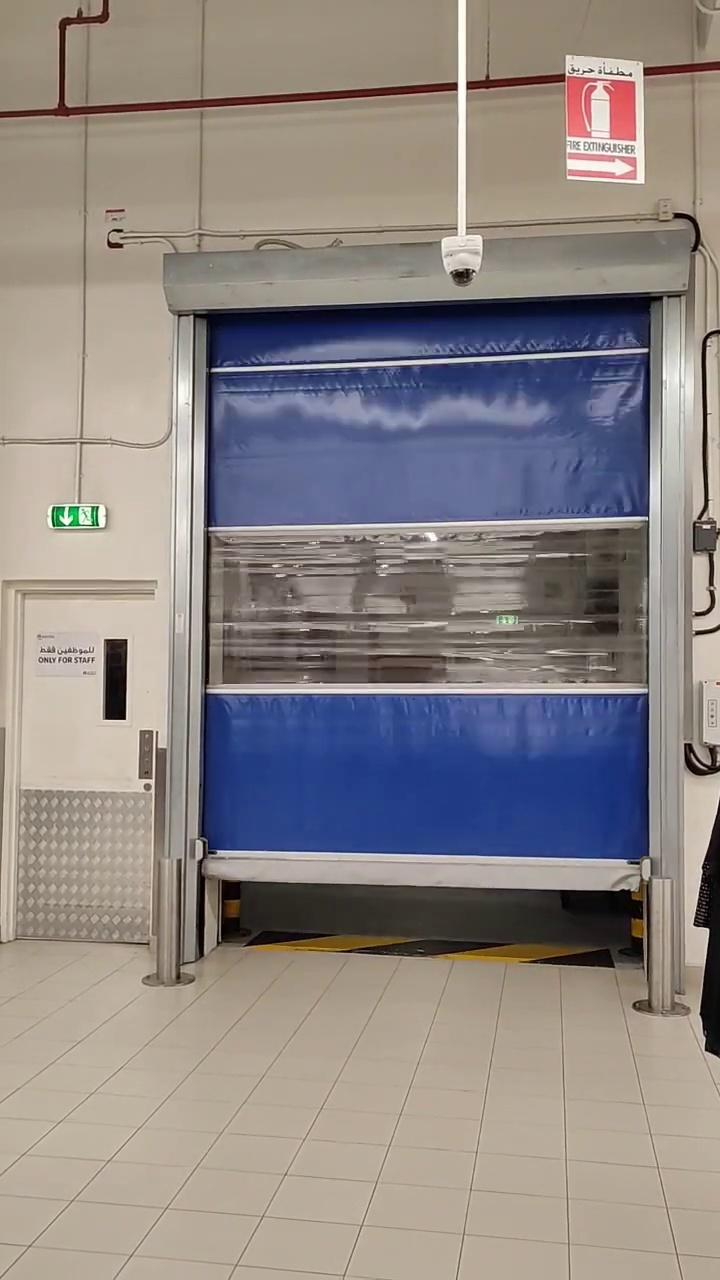Strip: (256, 928, 613, 969)
